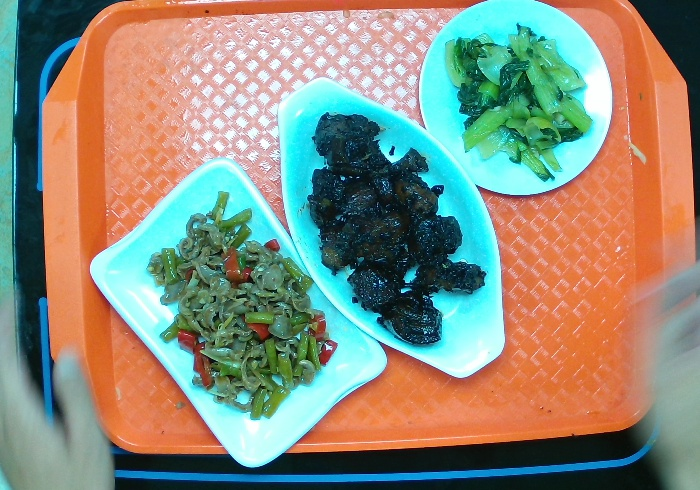RJxy-Si_Fang_Ao_Bian_Wan: (85, 153, 391, 473)
RJxy-Xiao_Yuan_Die: (410, 1, 618, 209)
RJxy-Yu_Pan: (271, 72, 510, 384)
